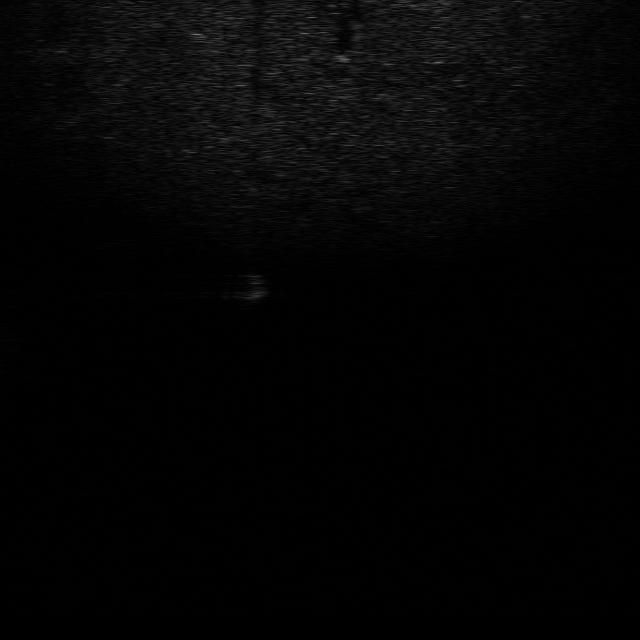human body: (225, 271, 269, 314)
